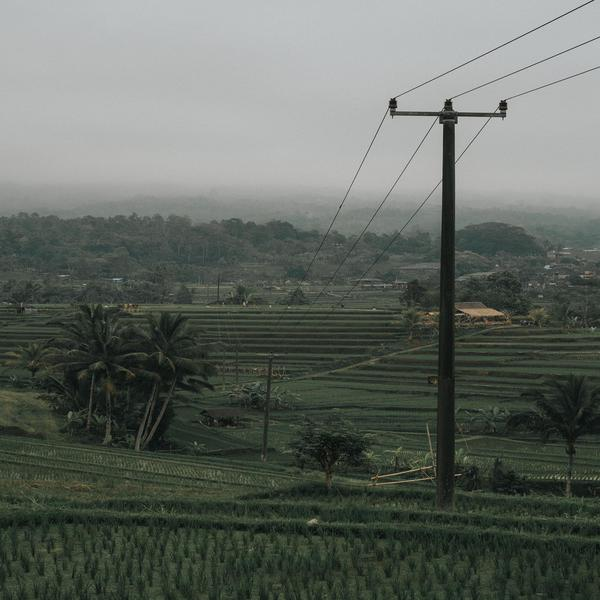utility_pole: (380, 82, 516, 185)
